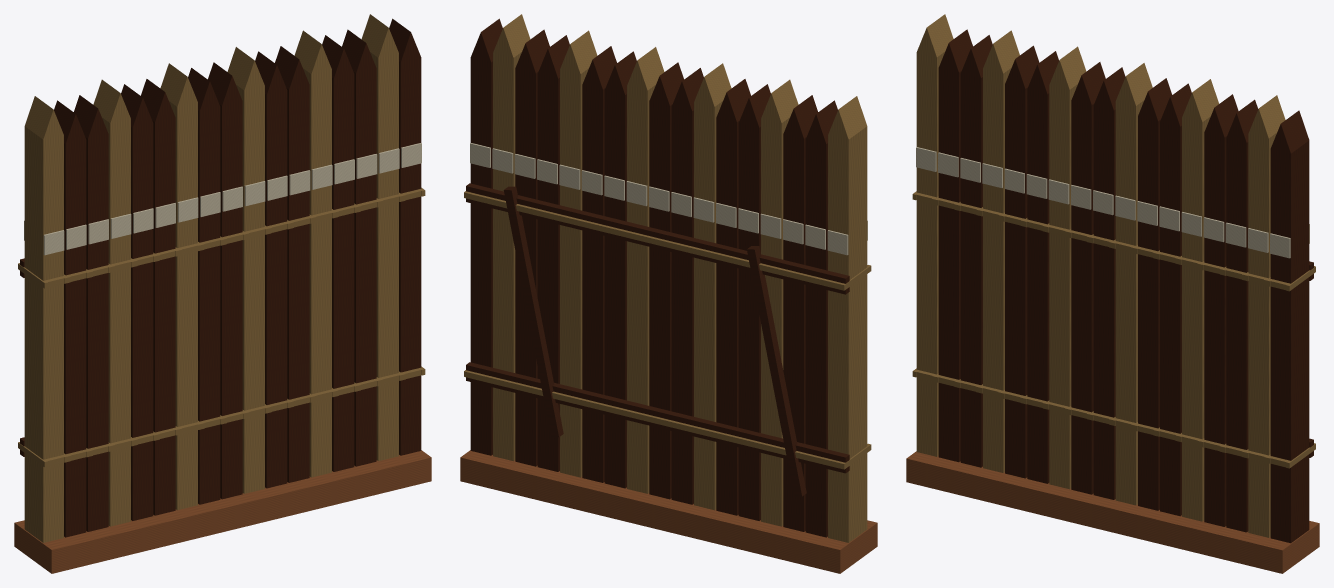
Rendered from Berber_Palisade_Age2_gapfill_4m.fbx.
The picture shows the model from 3 angles, left to right: view 1: azimuth 30°, elevation 25°; view 2: azimuth 150°, elevation 25°; view 3: azimuth 330°, elevation 25°; orthographic projection.
Parts seen in each view (by area): view 1: palm_split_post.041, palm_split_post.039, palm_split_post.043, palm_split_post.036, palm_split_post.042, palm_split_post.046, earth_seat.006, palm_split_post.045, palm_split_post.048, neutral_owner_band.006, front_lashing.006, lashing_side.006; view 2: palm_split_post.043, palm_split_post.036, palm_split_post.039, palm_split_post.041, palm_split_post.046, palm_split_post.042, earth_seat.006, continuous_rear_tie.006, palm_split_post.045, palm_split_post.048, neutral_owner_band.006, back_diagonal_brace.006 (+2 smaller); view 3: palm_split_post.043, palm_split_post.039, palm_split_post.041, palm_split_post.036, palm_split_post.042, palm_split_post.046, earth_seat.006, palm_split_post.048, palm_split_post.045, neutral_owner_band.006, front_lashing.006, lashing_side.006.
Boxes of the visible parts, x1,y1,x2,y2 form: palm_split_post.041: (74,29,376,531); palm_split_post.039: (54,35,354,537); palm_split_post.043: (121,18,421,520); palm_split_post.036: (24,30,331,542); palm_split_post.042: (93,14,398,526); palm_split_post.046: (188,46,309,504); earth_seat.006: (14,450,431,573); palm_split_post.045: (160,63,197,510); palm_split_post.048: (227,47,264,493); neutral_owner_band.006: (24,143,421,255); front_lashing.006: (43,189,423,466); lashing_side.006: (18,187,425,467); palm_split_post.043: (470,18,770,520); palm_split_post.036: (560,30,867,542); palm_split_post.039: (537,35,837,537); palm_split_post.041: (515,29,817,531); palm_split_post.046: (582,46,703,504); palm_split_post.042: (493,14,798,526); earth_seat.006: (460,450,877,573); continuous_rear_tie.006: (466,183,849,473); palm_split_post.045: (694,63,731,510); palm_split_post.048: (627,47,664,493); neutral_owner_band.006: (470,143,867,255); back_diagonal_brace.006: (503,186,806,496); palm_split_post.043: (1005,45,1309,543); palm_split_post.039: (938,29,1238,526); palm_split_post.041: (960,35,1258,532); palm_split_post.036: (916,14,1218,521); palm_split_post.042: (983,30,1285,537); palm_split_post.046: (1071,62,1191,516); earth_seat.006: (906,451,1319,573); palm_split_post.048: (1115,63,1152,505); palm_split_post.045: (1049,46,1086,489); neutral_owner_band.006: (916,147,1309,258); front_lashing.006: (914,193,1290,467); lashing_side.006: (912,191,1315,468).
Bounding box in the file's own units: 401 × 458 × 68.29.
Materials: 4 (4 with a texture image).
